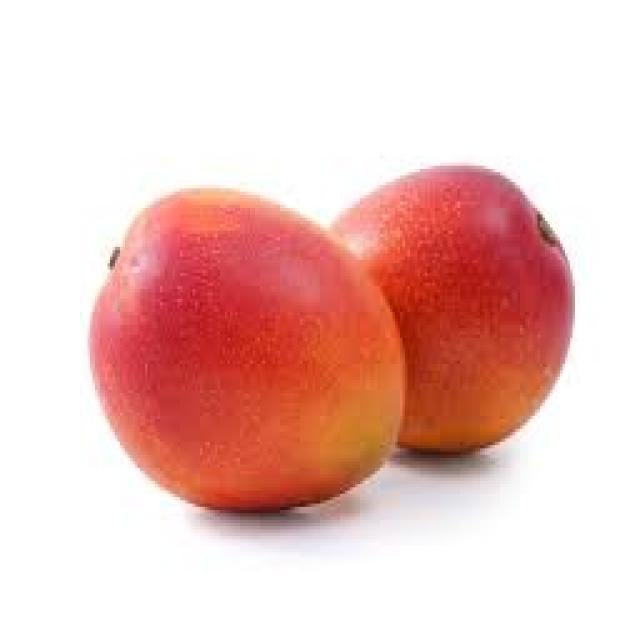mango: (87, 186, 407, 513), (326, 165, 574, 455)
